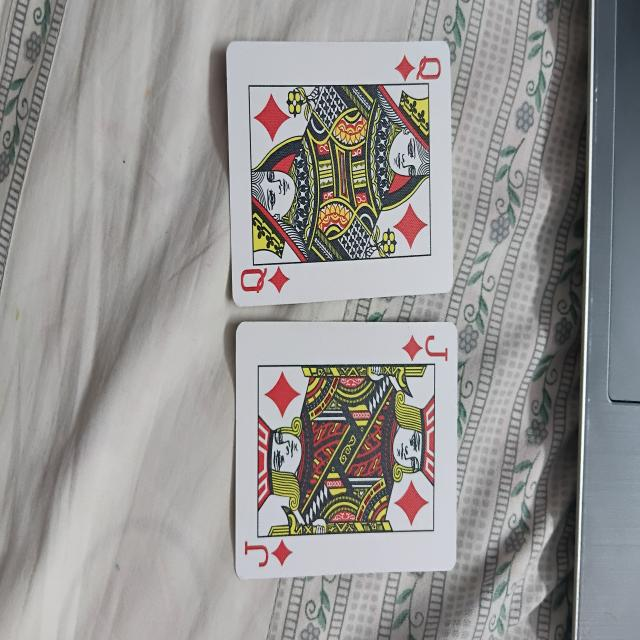JD: (232, 322, 459, 584)
QD: (229, 36, 453, 301)
